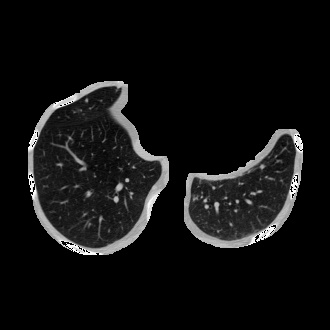PN: (84, 98, 88, 102)
